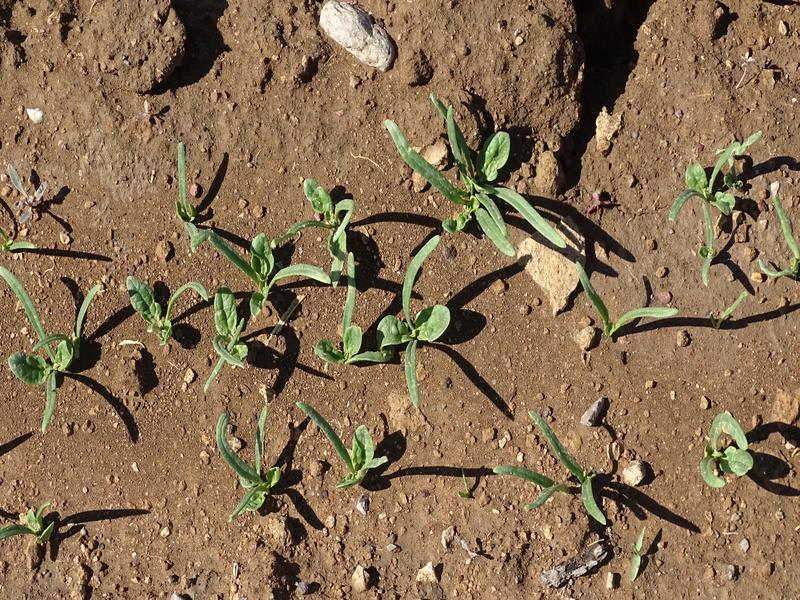Espinaca: (119, 105, 562, 520), (7, 270, 102, 431), (688, 139, 794, 283), (503, 415, 613, 525), (576, 263, 678, 339), (707, 414, 758, 498), (9, 505, 61, 547)
